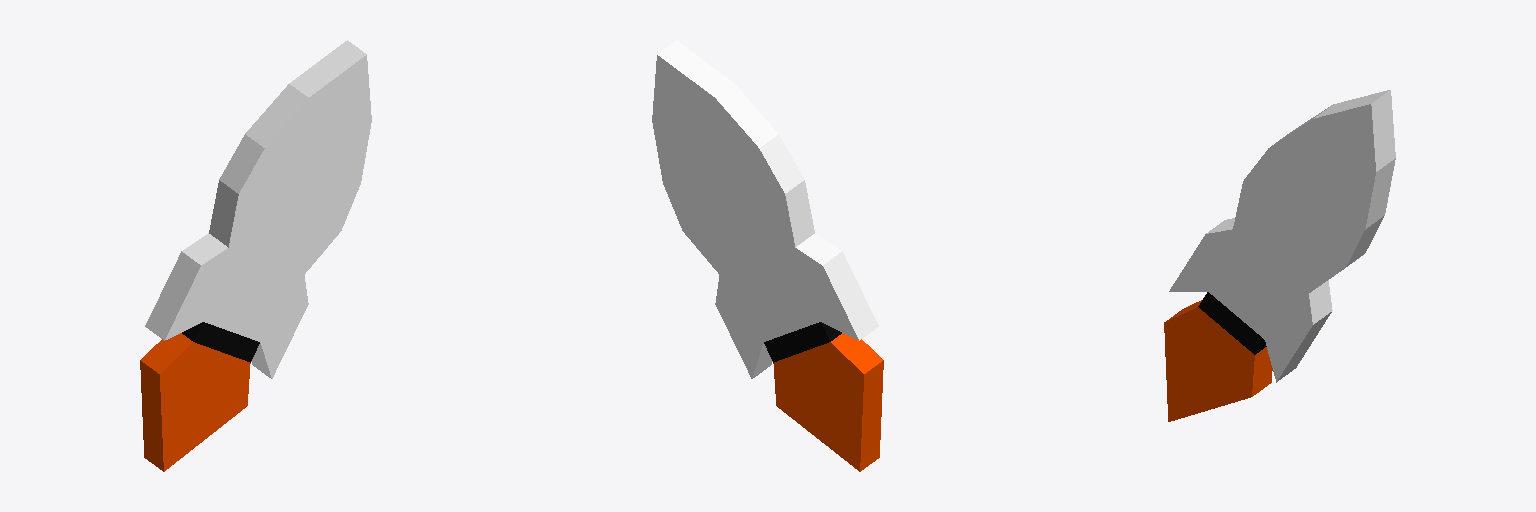
The model's file is rocket.obj.
The picture shows the model from 3 angles: view 1: azimuth 30°, elevation 25°; view 2: azimuth 150°, elevation 25°; view 3: azimuth 330°, elevation 25°; orthographic projection.
Visible parts, largest first — view 1: RocketIcon_Plane.006; view 2: RocketIcon_Plane.006; view 3: RocketIcon_Plane.006.
Part boxes in pixels (x1,y1,x2,y2): RocketIcon_Plane.006: (140,40,371,471); RocketIcon_Plane.006: (652,40,883,471); RocketIcon_Plane.006: (1164,90,1395,421).
Bounding box in the file's own units: 0.6515 × 1.08 × 0.1047.